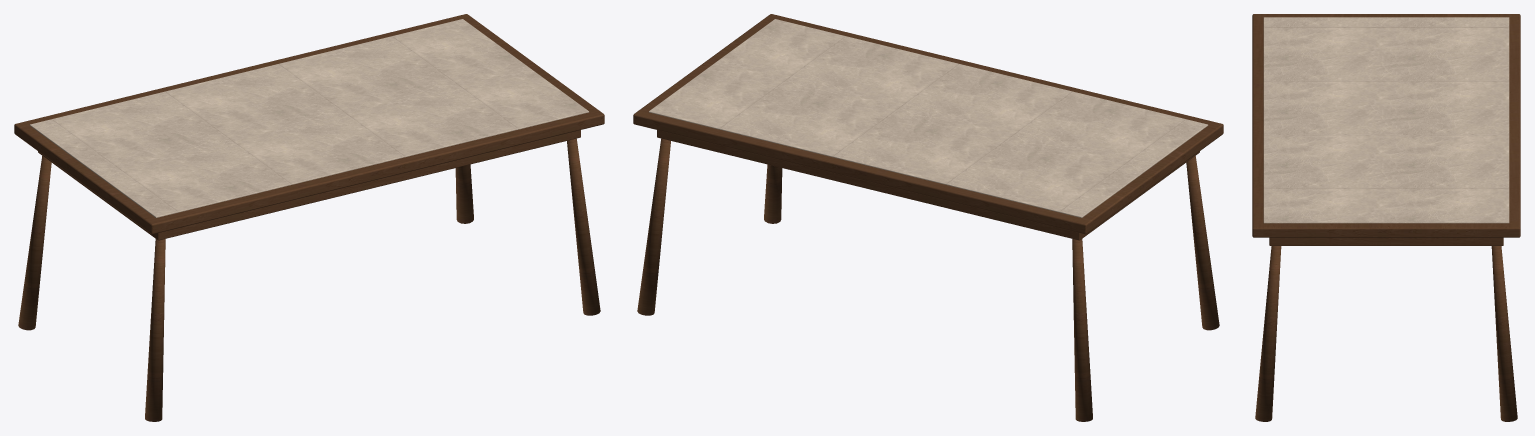
File: siesta-dining-set--dtable6.glb
3 renders of one model, left to right at view 1: azimuth 30°, elevation 25°; view 2: azimuth 150°, elevation 25°; view 3: azimuth 270°, elevation 25°, orthographic. The views are drawn at different scales.
Parts seen in each view (by area): view 1: inset, frame, apron, leg-1-1, leg1-1, leg-11, leg11; view 2: inset, frame, apron, leg-11, leg11, leg-1-1, leg1-1; view 3: inset, frame, leg1-1, leg11, apron.
Boxes of the visible parts, x1,y1,x2,y2 form: inset: (29, 19, 588, 217); frame: (14, 14, 604, 234); apron: (38, 130, 580, 240); leg-1-1: (145, 239, 165, 421); leg1-1: (567, 138, 600, 315); leg-11: (18, 156, 51, 330); leg11: (455, 164, 473, 223); inset: (649, 19, 1208, 217); frame: (633, 14, 1223, 234); apron: (657, 130, 1199, 240); leg-11: (1072, 239, 1092, 421); leg11: (637, 138, 670, 315); leg-1-1: (1186, 156, 1219, 330); leg1-1: (764, 164, 782, 223); inset: (1263, 17, 1509, 223); frame: (1252, 14, 1520, 237); leg1-1: (1255, 246, 1281, 421); leg11: (1491, 246, 1517, 421); apron: (1269, 237, 1503, 245).
Bounding box in the file's own units: 1.8 × 0.7672 × 0.95.
Materials: 2 (2 with a texture image).
